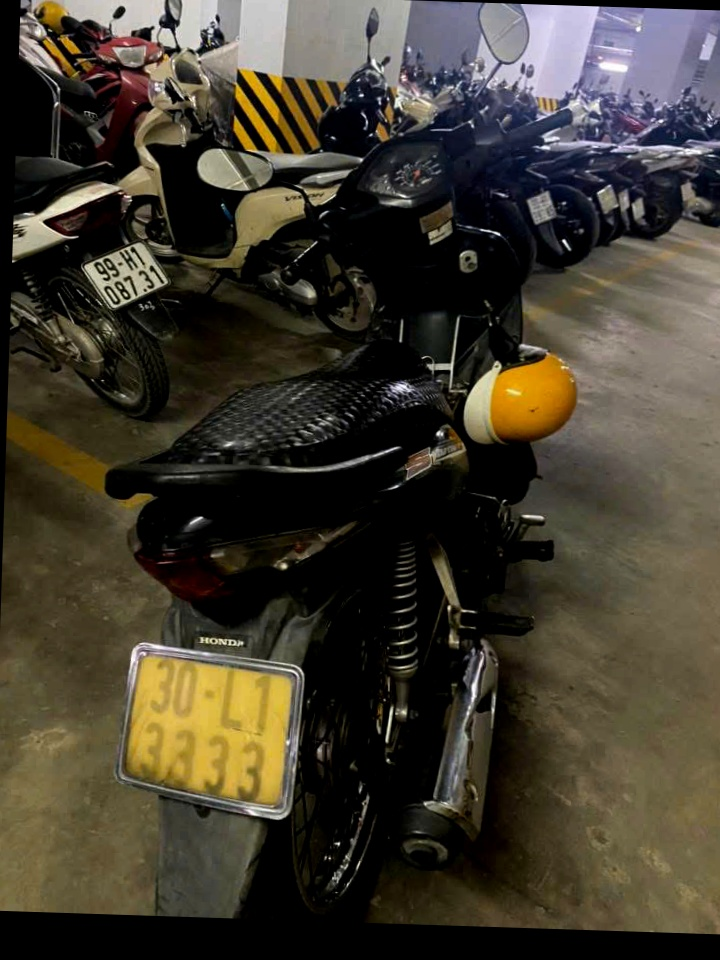Bien-so: (101, 653, 297, 854), (48, 232, 148, 318), (505, 174, 541, 215)
